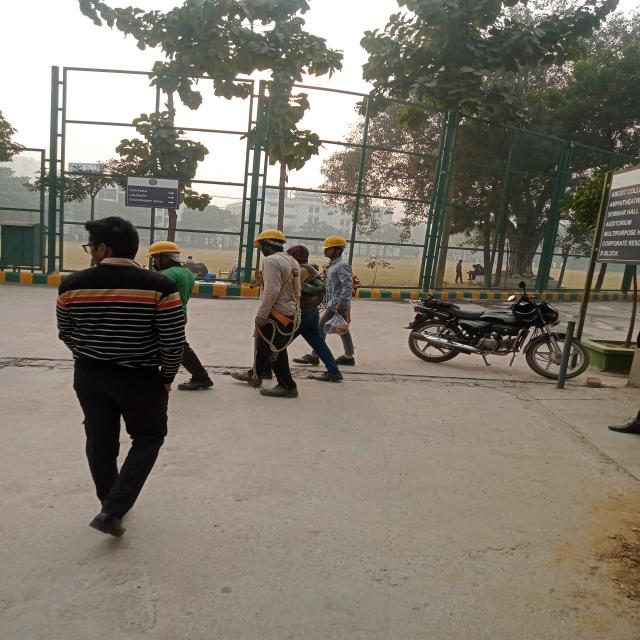no jacket: (244, 227, 303, 399), (147, 241, 213, 392), (320, 233, 358, 366)
unsafe: (52, 218, 188, 538)
